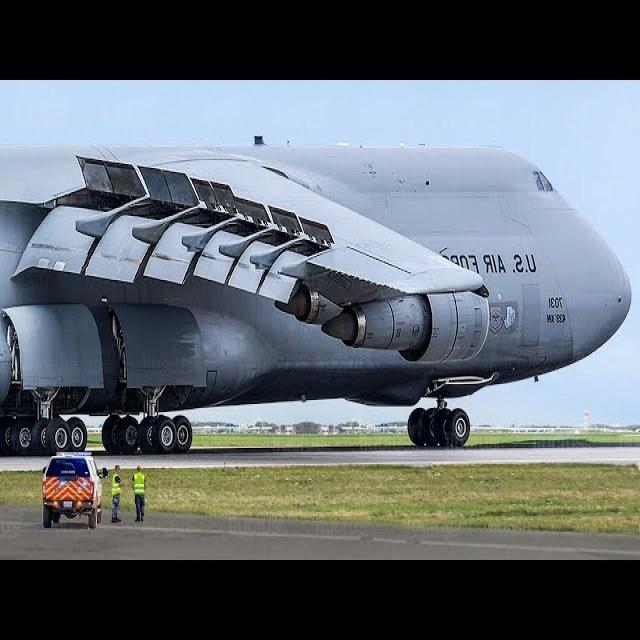C5: (0, 90, 640, 470)
